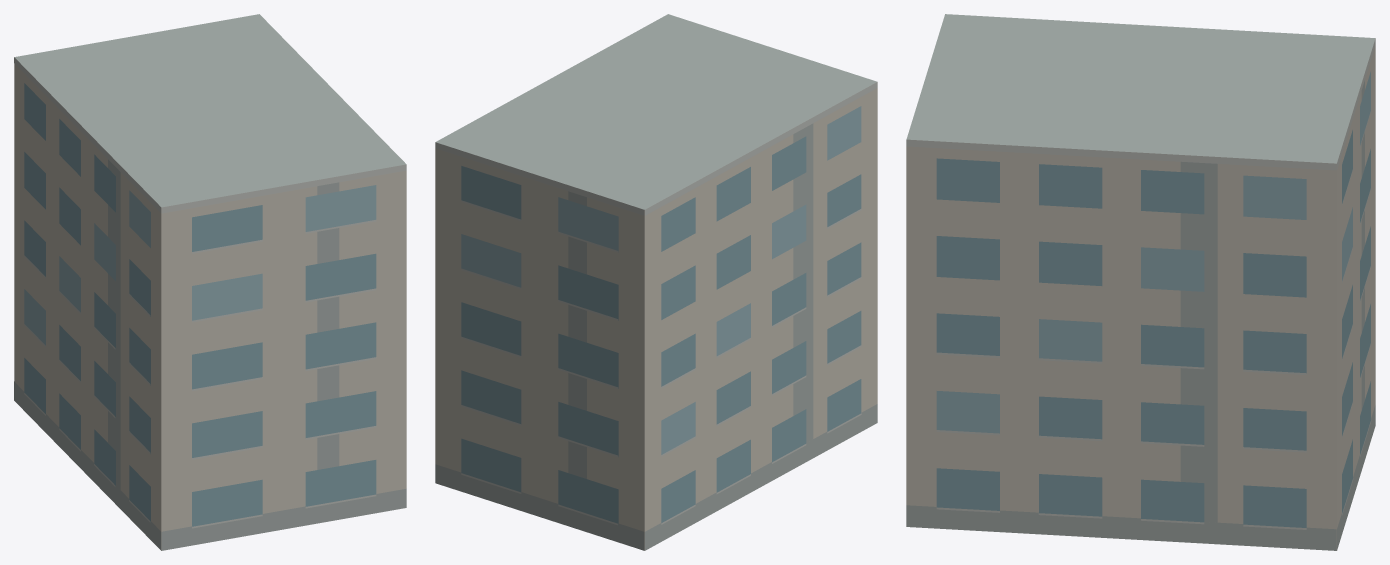
Rendered from survey-upis-32983428.glb.
3 views of the same model, side by side, from view 1: azimuth 30°, elevation 25°; view 2: azimuth 150°, elevation 25°; view 3: azimuth 270°, elevation 25° (orthographic). The views are drawn at different scales.
Parts seen in each view (by area): view 1: survey-upis-32983428.tmp; view 2: survey-upis-32983428.tmp; view 3: survey-upis-32983428.tmp.
Boxes of the visible parts, x1,y1,x2,y2 form: survey-upis-32983428.tmp: (14, 14, 406, 550); survey-upis-32983428.tmp: (435, 14, 877, 550); survey-upis-32983428.tmp: (906, 14, 1375, 550).
Bounding box in the file's own units: 11.36 × 13.7 × 15.05.
